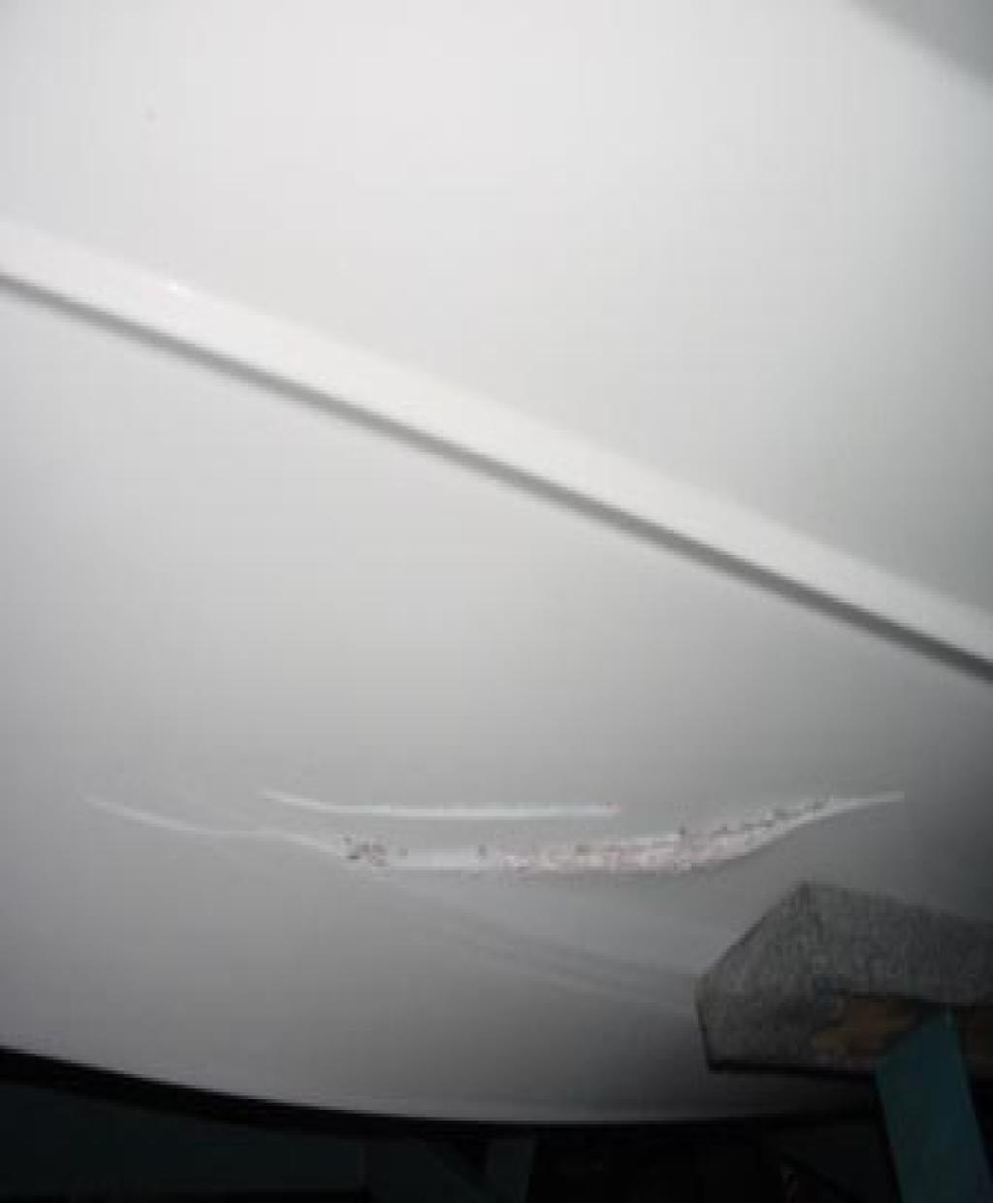crack: (101, 754, 905, 886)
